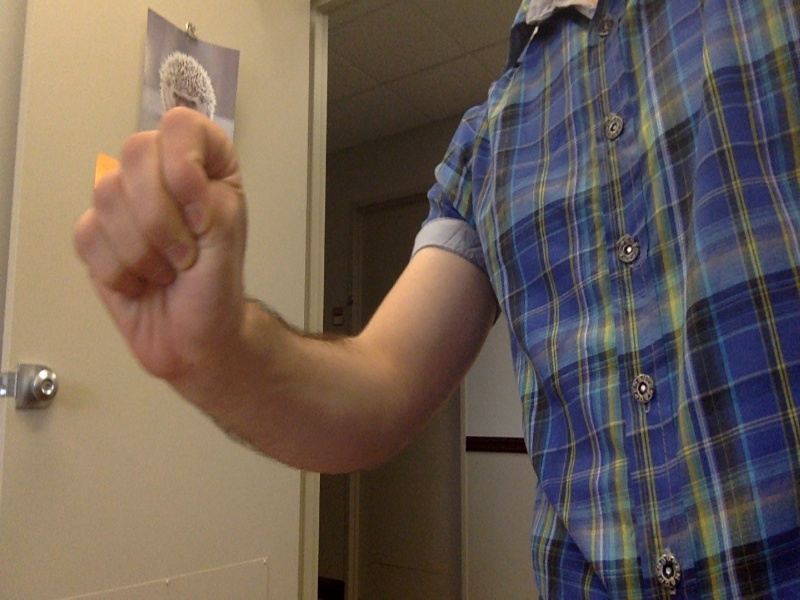0-hand: (68, 109, 249, 375)
